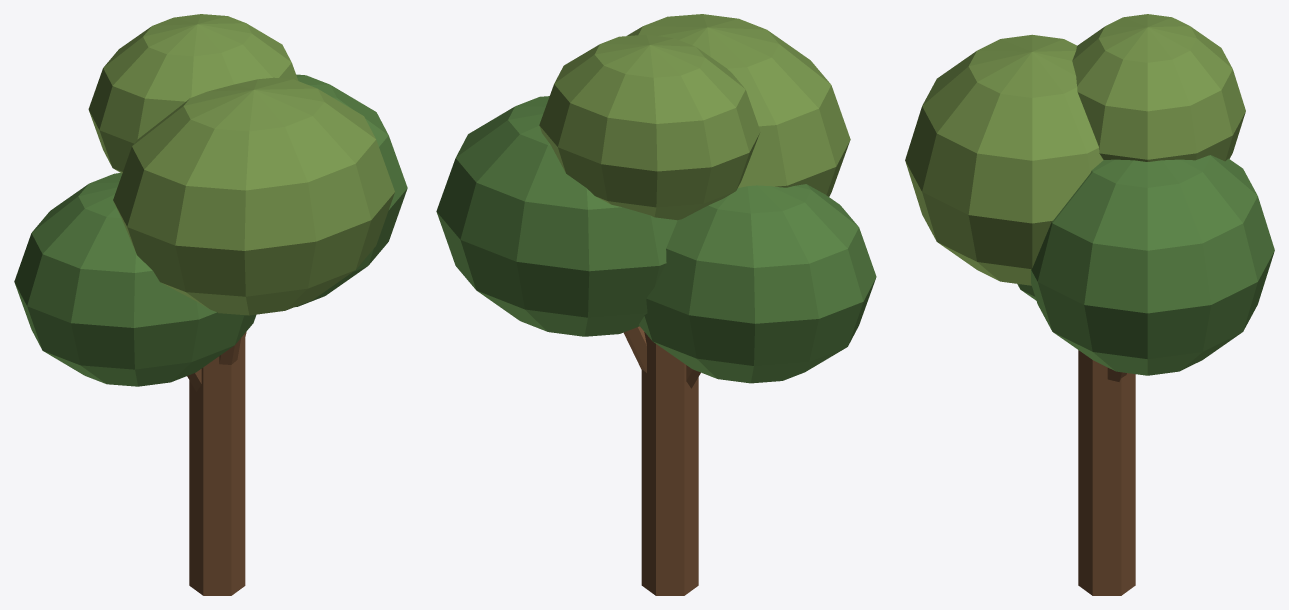
The model's file is tree-normal.glb.
3 renders of one model, left to right at view 1: azimuth 30°, elevation 25°; view 2: azimuth 150°, elevation 25°; view 3: azimuth 270°, elevation 25°, orthographic. The views are drawn at different scales.
Parts seen in each view (by area): view 1: tree; view 2: tree; view 3: tree.
Part boxes in pixels (left/top/right/bottom): tree: left=14, top=14, right=407, bottom=595; tree: left=436, top=14, right=876, bottom=595; tree: left=905, top=14, right=1274, bottom=595.
Bounding box in the file's own units: 3.35 × 4.53 × 2.72.
